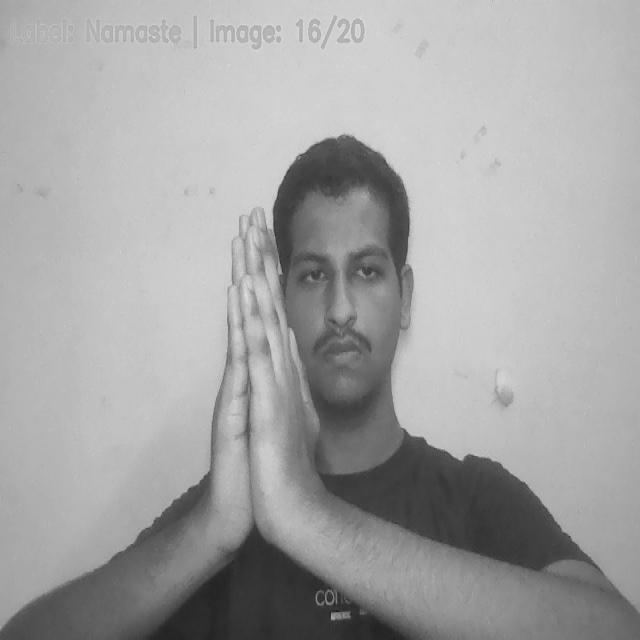Namaste: (217, 205, 313, 572)
